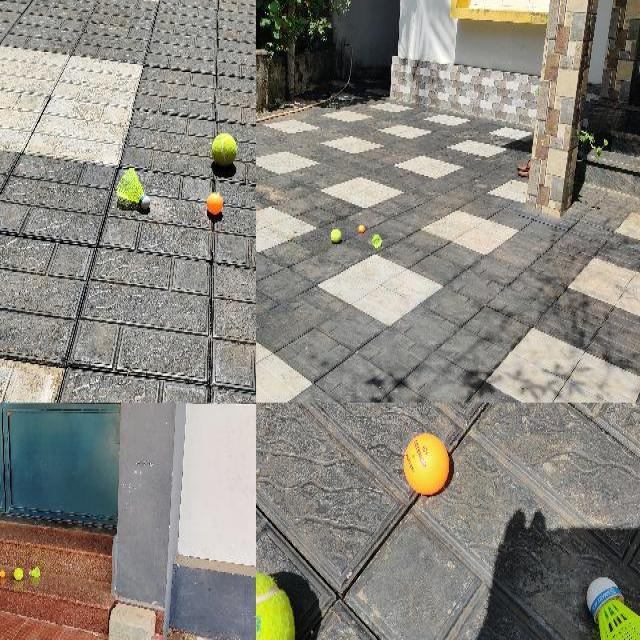ping-pong-ball: (402, 432, 448, 493), (206, 191, 222, 214), (0, 568, 6, 579), (359, 224, 363, 232)
